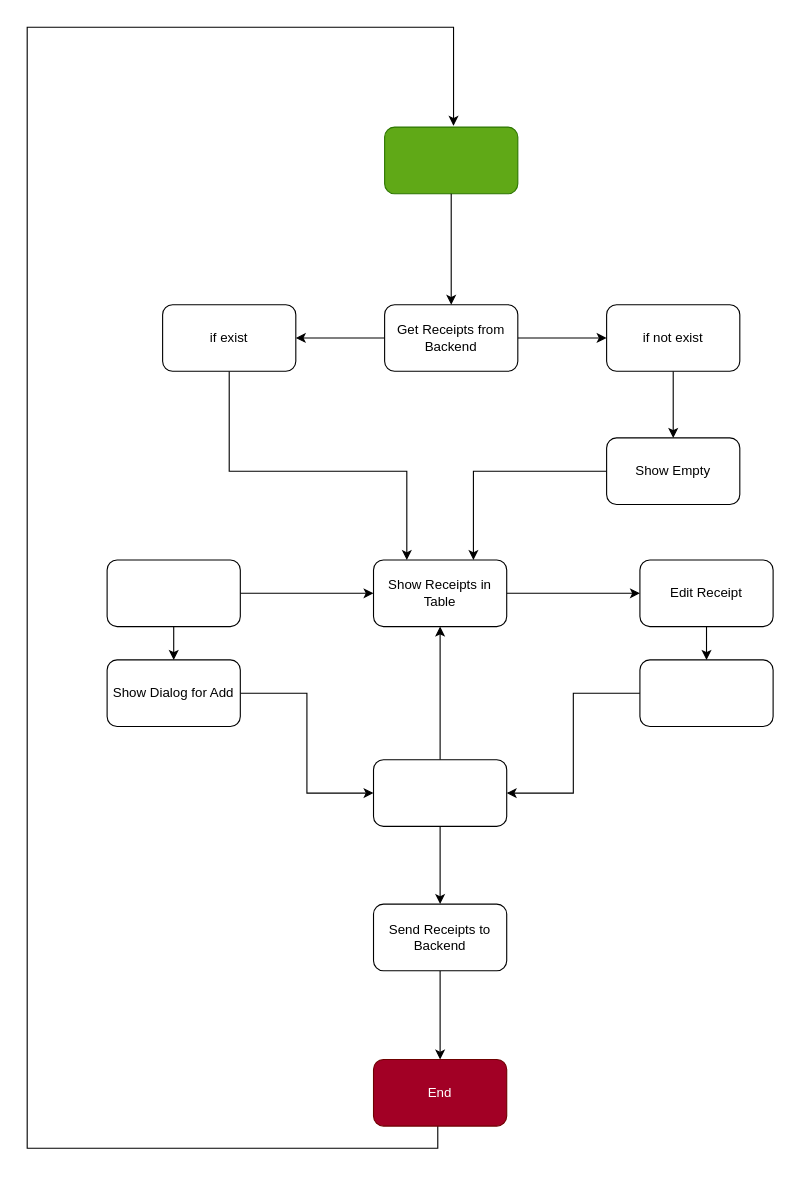
The diagram is 793 pixels wide and 1177 high, and some of its shapes have lost their labels. Here are the shapes that lost their labels. From the top down, the box of each, then its label:
(384, 126, 518, 194): Start
(106, 559, 240, 627): Add Receipt
(639, 659, 773, 726): Show Dialog for Edit
(372, 759, 507, 826): Update Local Receipts List
